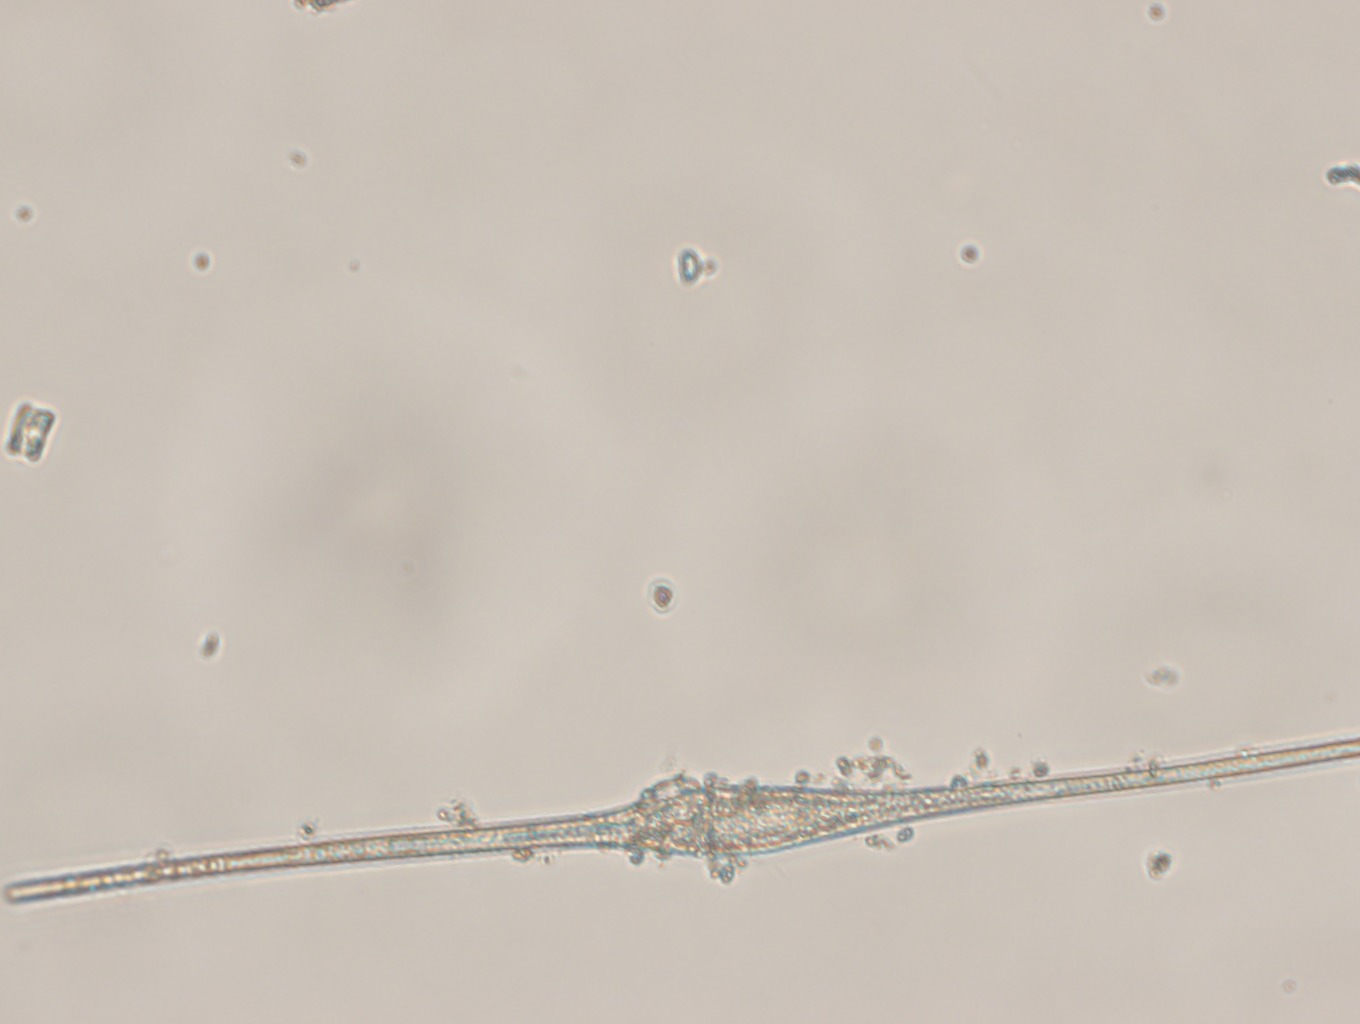ceratium fusus: (1, 734, 1360, 913)
